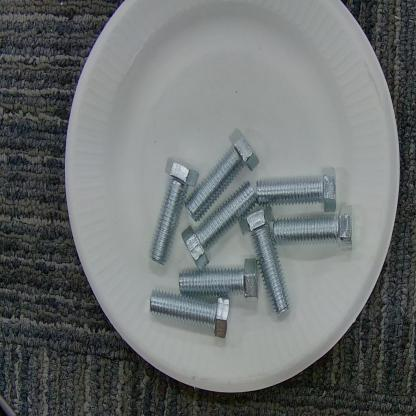FOD: (146, 124, 355, 342)
